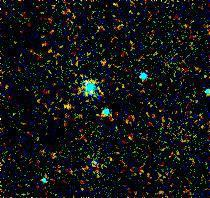star: (54, 92, 84, 122)
